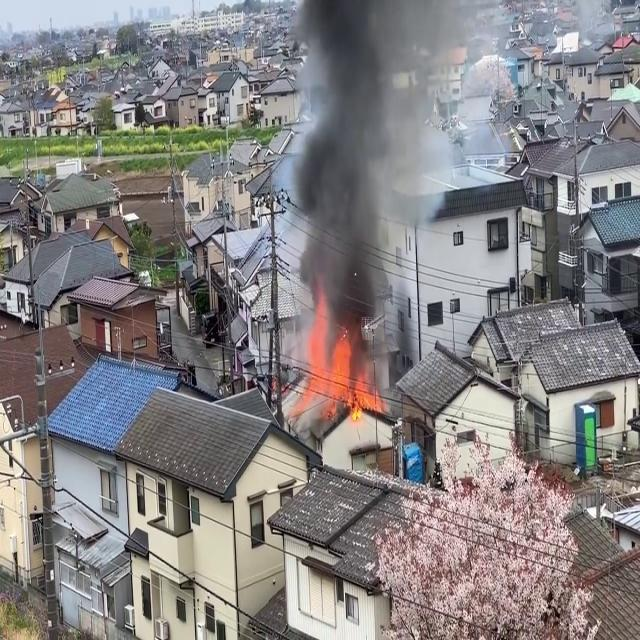Fire: (292, 318, 382, 419)
Smoke: (282, 0, 432, 367)
